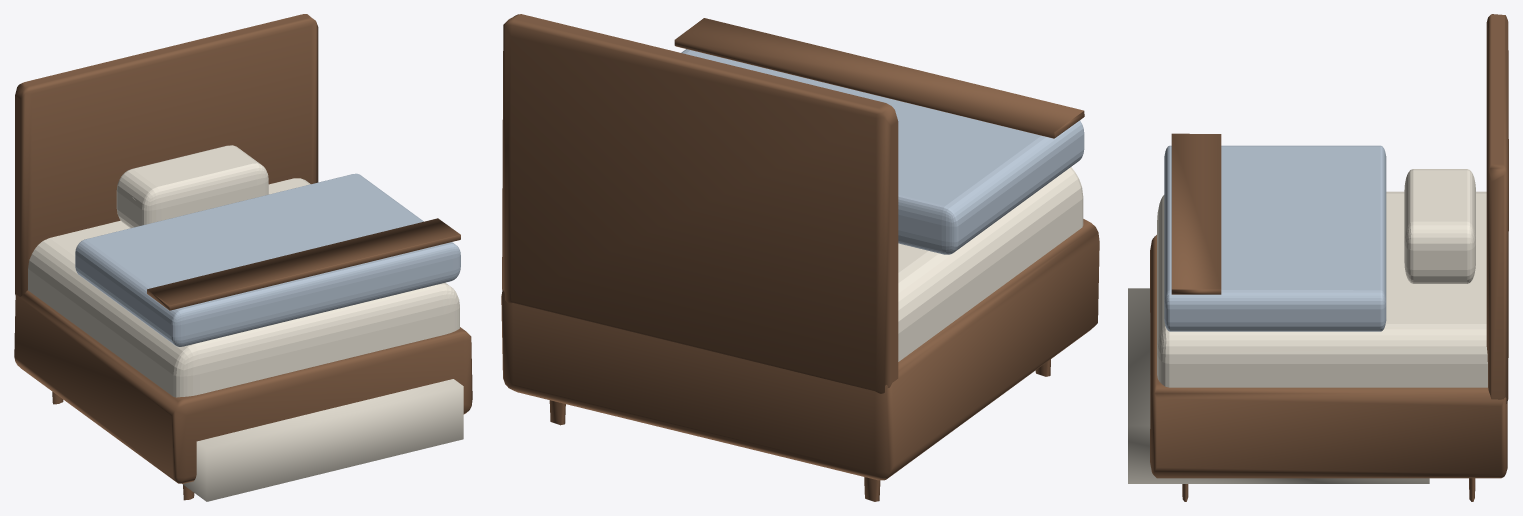
The model's file is bed-2-4.lod.glb.
3 views of the same model, side by side, from view 1: azimuth 30°, elevation 25°; view 2: azimuth 150°, elevation 25°; view 3: azimuth 270°, elevation 25° (orthographic). The views are drawn at different scales.
Visible parts, largest first — view 1: tailored-cushion (×2), part; view 2: part, tailored-cushion (×2); view 3: tailored-cushion (×2), part.
Boxes of the visible parts, x1,y1,x2,y2 form: tailored-cushion (×2): (28, 145, 463, 501); part: (14, 14, 472, 500); part: (501, 14, 1099, 501); tailored-cushion (×2): (681, 49, 1084, 361); tailored-cushion (×2): (1128, 145, 1487, 483); part: (1150, 14, 1508, 501).
Size of the model in its own units: 1 by 1 by 1.
